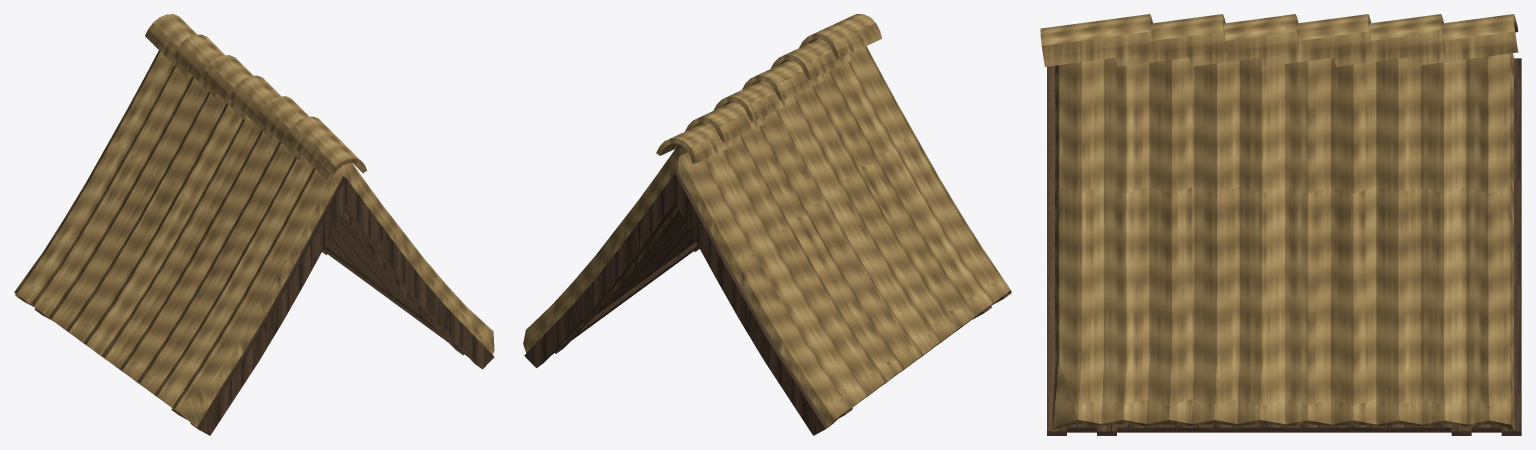
Rendered from Roof_Thatch_4x4.gltf.
The picture shows the model from 3 angles, left to right: view 1: azimuth 30°, elevation 25°; view 2: azimuth 150°, elevation 25°; view 3: azimuth 270°, elevation 25°; orthographic projection. The views are drawn at different scales.
Visible parts, largest first — view 1: Roof_Thatch_4x4; view 2: Roof_Thatch_4x4; view 3: Roof_Thatch_4x4.
Part boxes in pixels (x1,y1,x2,y2): Roof_Thatch_4x4: [14, 14, 494, 435]; Roof_Thatch_4x4: [523, 14, 1011, 435]; Roof_Thatch_4x4: [1040, 14, 1521, 435].
Size of the model in its own units: 5.51 by 4.25 by 5.56.
Materials: 2 (2 with a texture image).
